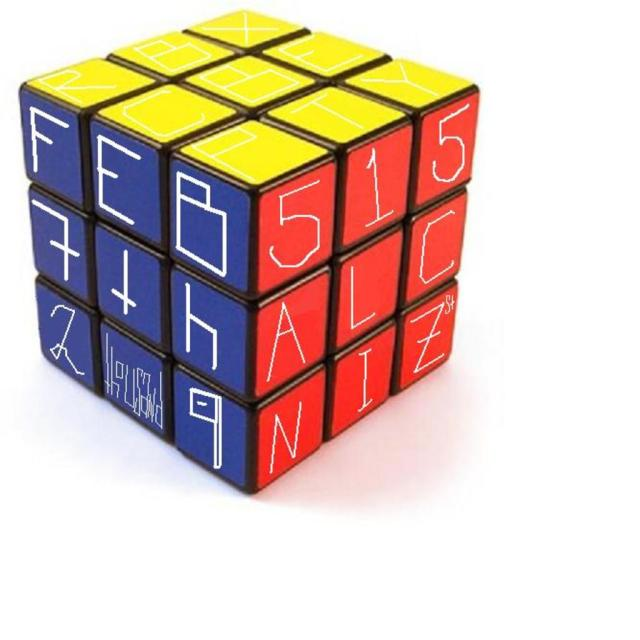Toy: (18, 9, 482, 498)
